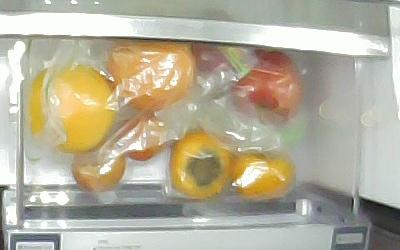apple_vinyl: (229, 50, 304, 124), (190, 42, 252, 81)
grapefruit_vinyl: (30, 65, 116, 153), (107, 41, 194, 112)
persimmon_vinyl: (170, 131, 231, 199), (232, 154, 296, 200)
prune_vinyl: (72, 141, 126, 191), (117, 112, 167, 161)
